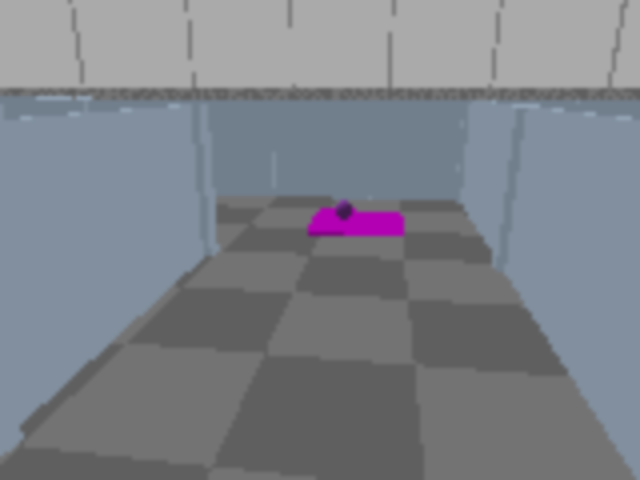goal_zone: (306, 209, 404, 238)
puck: (336, 200, 354, 221)
